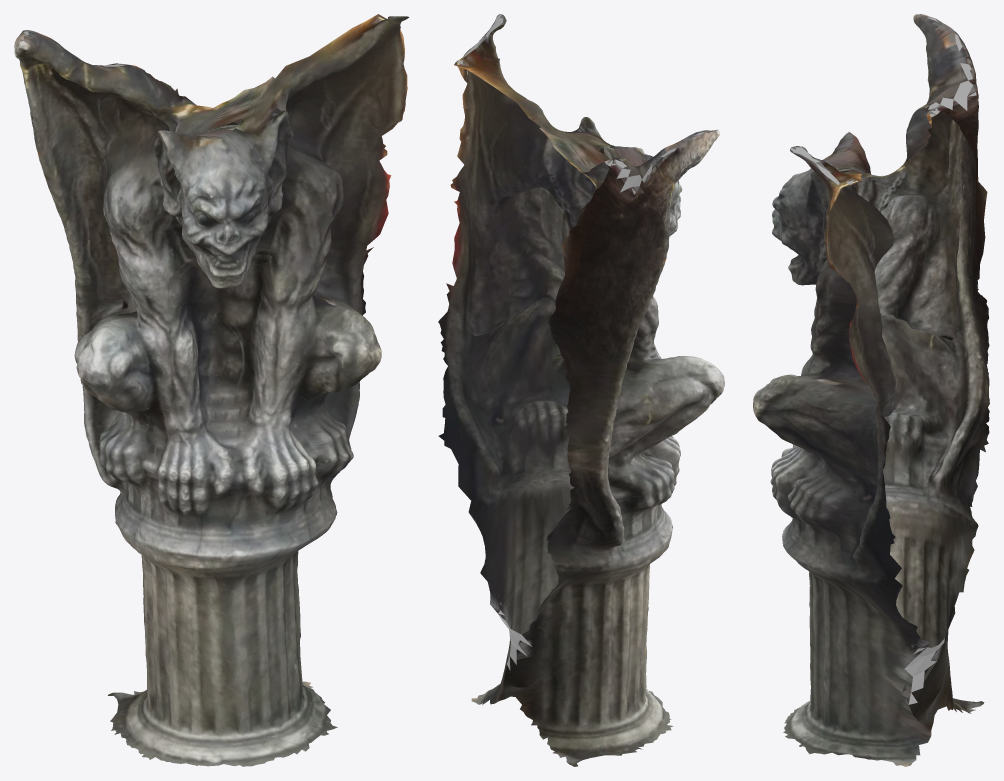
Rendered from gargoyle_3dst27.glb.
3 views of the same model, side by side, from view 1: azimuth 30°, elevation 25°; view 2: azimuth 150°, elevation 25°; view 3: azimuth 270°, elevation 25° (orthographic). The views are drawn at different scales.
Visible parts, largest first — view 1: Object_3, Object_2, Object_4; view 2: Object_2, Object_3, Object_4, Object_5; view 3: Object_3, Object_2, Object_4, Object_5.
Boxes of the visible parts, x1=… form: Object_3: x1=21, y1=14, x2=404, y2=743; Object_2: x1=71, y1=14, x2=409, y2=766; Object_4: x1=14, y1=30, x2=238, y2=255; Object_2: x1=438, y1=14, x2=724, y2=755; Object_3: x1=438, y1=14, x2=707, y2=766; Object_4: x1=562, y1=129, x2=719, y2=542; Object_5: x1=456, y1=14, x2=703, y2=670; Object_3: x1=753, y1=16, x2=984, y2=766; Object_2: x1=770, y1=147, x2=989, y2=738; Object_4: x1=772, y1=14, x2=987, y2=489; Object_5: x1=790, y1=17, x2=976, y2=704.
Size of the model in its own units: 3.18 by 6.44 by 2.16.
4 materials, 3 textured.
